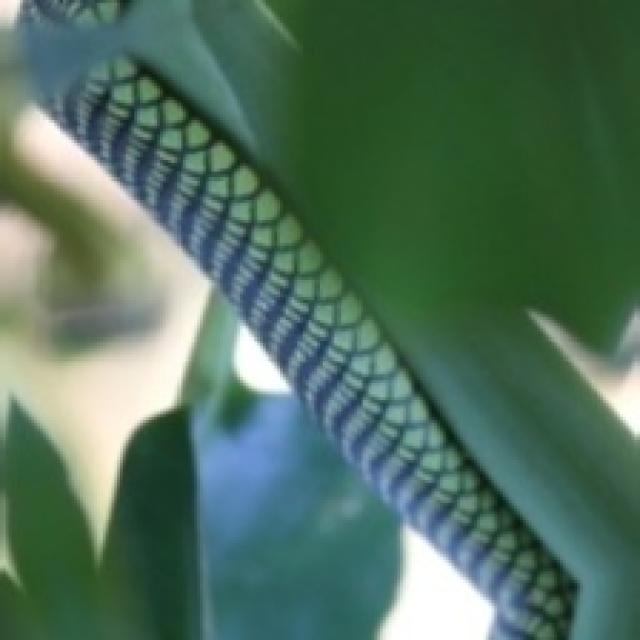paradise tree snake: (20, 0, 637, 637), (20, 0, 597, 637)
